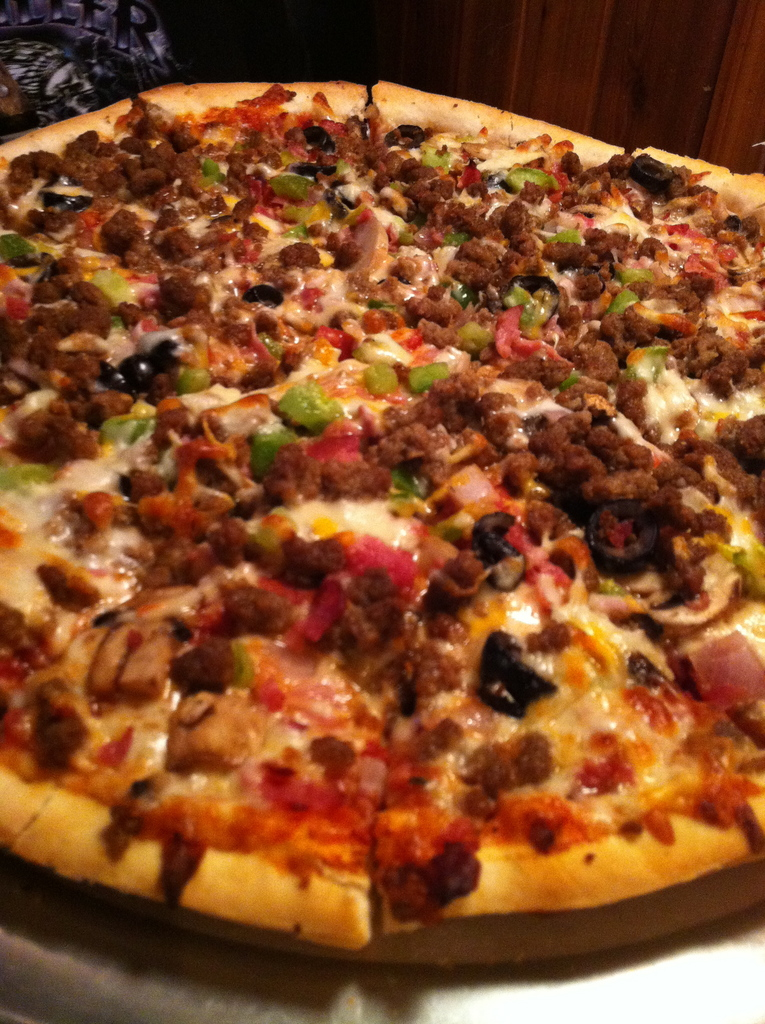Pizza: (0, 72, 764, 947)
